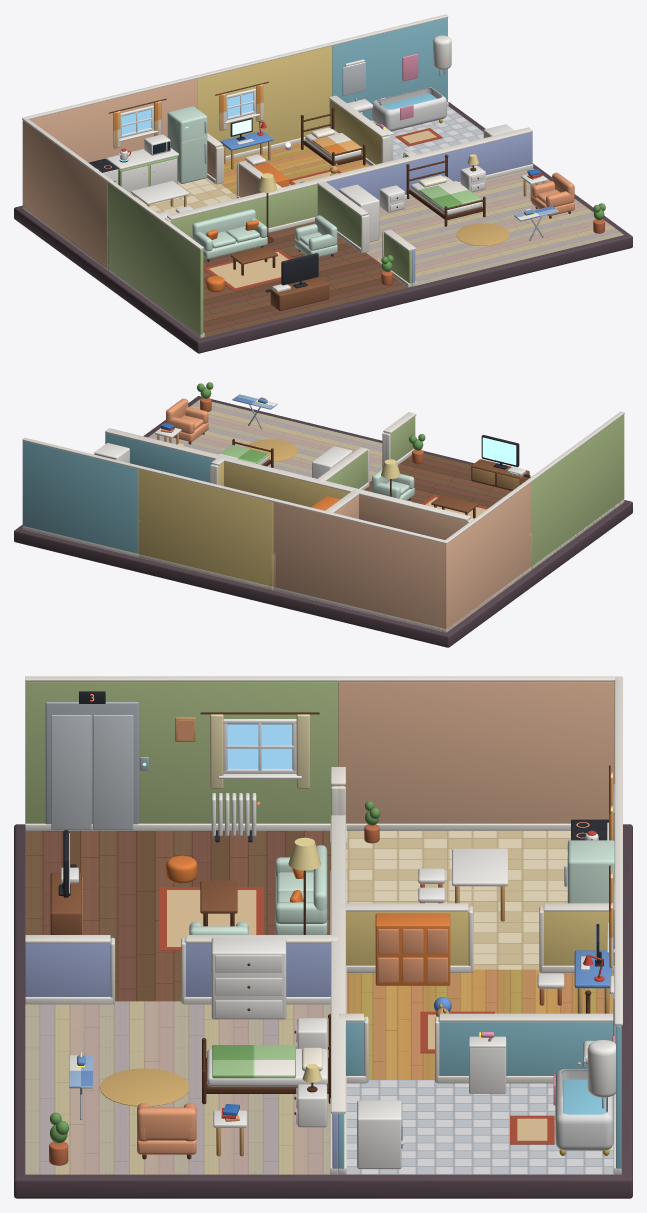
File: floor3.glb
3 views of the same model, one above another, from view 1: azimuth 30°, elevation 25°; view 2: azimuth 150°, elevation 25°; view 3: azimuth 270°, elevation 25° (orthographic). The views are drawn at different scales.
Parts seen in each view (by area): view 1: floor_bedroom, slab, wall_living_x0.0_0, wall_kids_y8.0_0, floor_living, wall_kitchen_x0.0_0, wall_bath_y8.0_0, wall_kitchen_y8.0_0, wall_bedroom_y4.2_0, wall_living_y4.2_1, body.009, floor_kids (+30 smaller); view 2: wall_kitchen_y8.0_0, wall_kids_y8.0_0, slab, wall_bath_y8.0_0, wall_living_x0.0_0, wall_kitchen_x0.0_0, floor_bedroom, floor_living, wall_kids_y4.2_0, wall_kitchen_y4.2_1, wall_bath_y4.2_0, cap_y4.2_1.6 (+15 smaller); view 3: wall_kitchen_x0.0_0, floor_bedroom, wall_living_x0.0_0, slab, floor_living, floor_kitchen, floor_bath, floor_kids, wall_bath_x8.0_1, door, door.001, wall_bedroom_x5.5_0 (+48 smaller).
Boxes of the visible parts, left/top/right/bottom form: floor_bedroom: left=366, top=168, right=623, bottom=286; slab: left=14, top=102, right=632, bottom=353; wall_living_x0.0_0: left=107, top=182, right=203, bottom=337; wall_kids_y8.0_0: left=197, top=46, right=332, bottom=155; floor_living: left=109, top=221, right=407, bottom=337; wall_kitchen_x0.0_0: left=22, top=121, right=107, bottom=268; wall_bath_y8.0_0: left=332, top=17, right=447, bottom=120; wall_kitchen_y8.0_0: left=22, top=78, right=197, bottom=162; wall_bedroom_y4.2_0: left=327, top=132, right=532, bottom=200; wall_living_y4.2_1: left=168, top=184, right=317, bottom=238; body.009: left=167, top=106, right=207, bottom=183; floor_kids: left=221, top=142, right=369, bottom=195; wall_kitchen_y8.0_0: left=273, top=502, right=446, bottom=631; wall_kids_y8.0_0: left=138, top=469, right=273, bottom=588; slab: left=14, top=396, right=632, bottom=647; wall_bath_y8.0_0: left=22, top=441, right=138, bottom=553; wall_living_x0.0_0: left=531, top=414, right=624, bottom=568; wall_kitchen_x0.0_0: left=443, top=483, right=530, bottom=630; floor_bedroom: left=148, top=399, right=382, bottom=481; floor_living: left=364, top=453, right=622, bottom=569; wall_kids_y4.2_0: left=224, top=461, right=349, bottom=507; wall_kitchen_y4.2_1: left=359, top=494, right=469, bottom=539; wall_bath_y4.2_0: left=105, top=433, right=214, bottom=482; cap_y4.2_1.6: left=105, top=428, right=471, bottom=520; wall_kitchen_x0.0_0: left=338, top=682, right=614, bottom=823; floor_bedroom: left=25, top=1001, right=337, bottom=1174; wall_living_x0.0_0: left=25, top=682, right=338, bottom=823; slab: left=14, top=824, right=632, bottom=1198; floor_living: left=25, top=831, right=330, bottom=1001; floor_kitchen: left=346, top=831, right=570, bottom=969; floor_bath: left=338, top=1080, right=621, bottom=1174; floor_kids: left=346, top=969, right=613, bottom=1079; wall_bath_x8.0_1: left=438, top=1019, right=615, bottom=1075; door: left=51, top=715, right=91, bottom=829; door.001: left=93, top=715, right=133, bottom=829; wall_bedroom_x5.5_0: left=25, top=940, right=111, bottom=996.
Size of the model in its own units: 11.3 by 2.54 by 8.3.
Materials: 53 (8 with a texture image).
